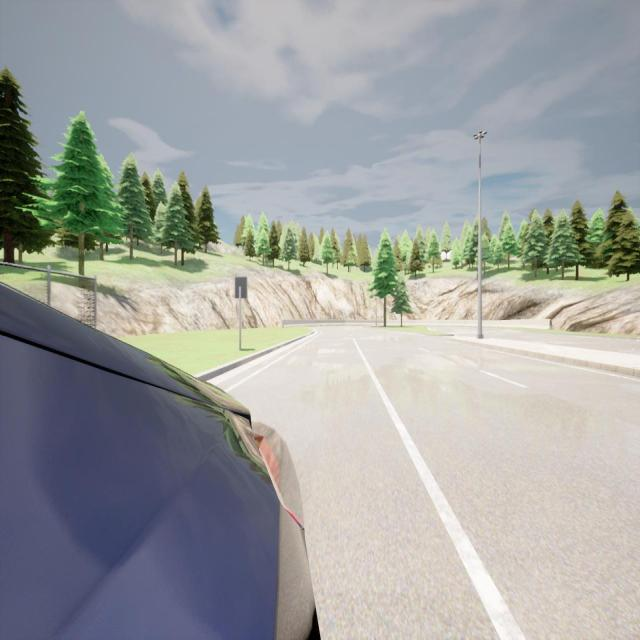Traffic_Signs: (235, 277, 247, 298)
Vehicle: (0, 283, 318, 638)
